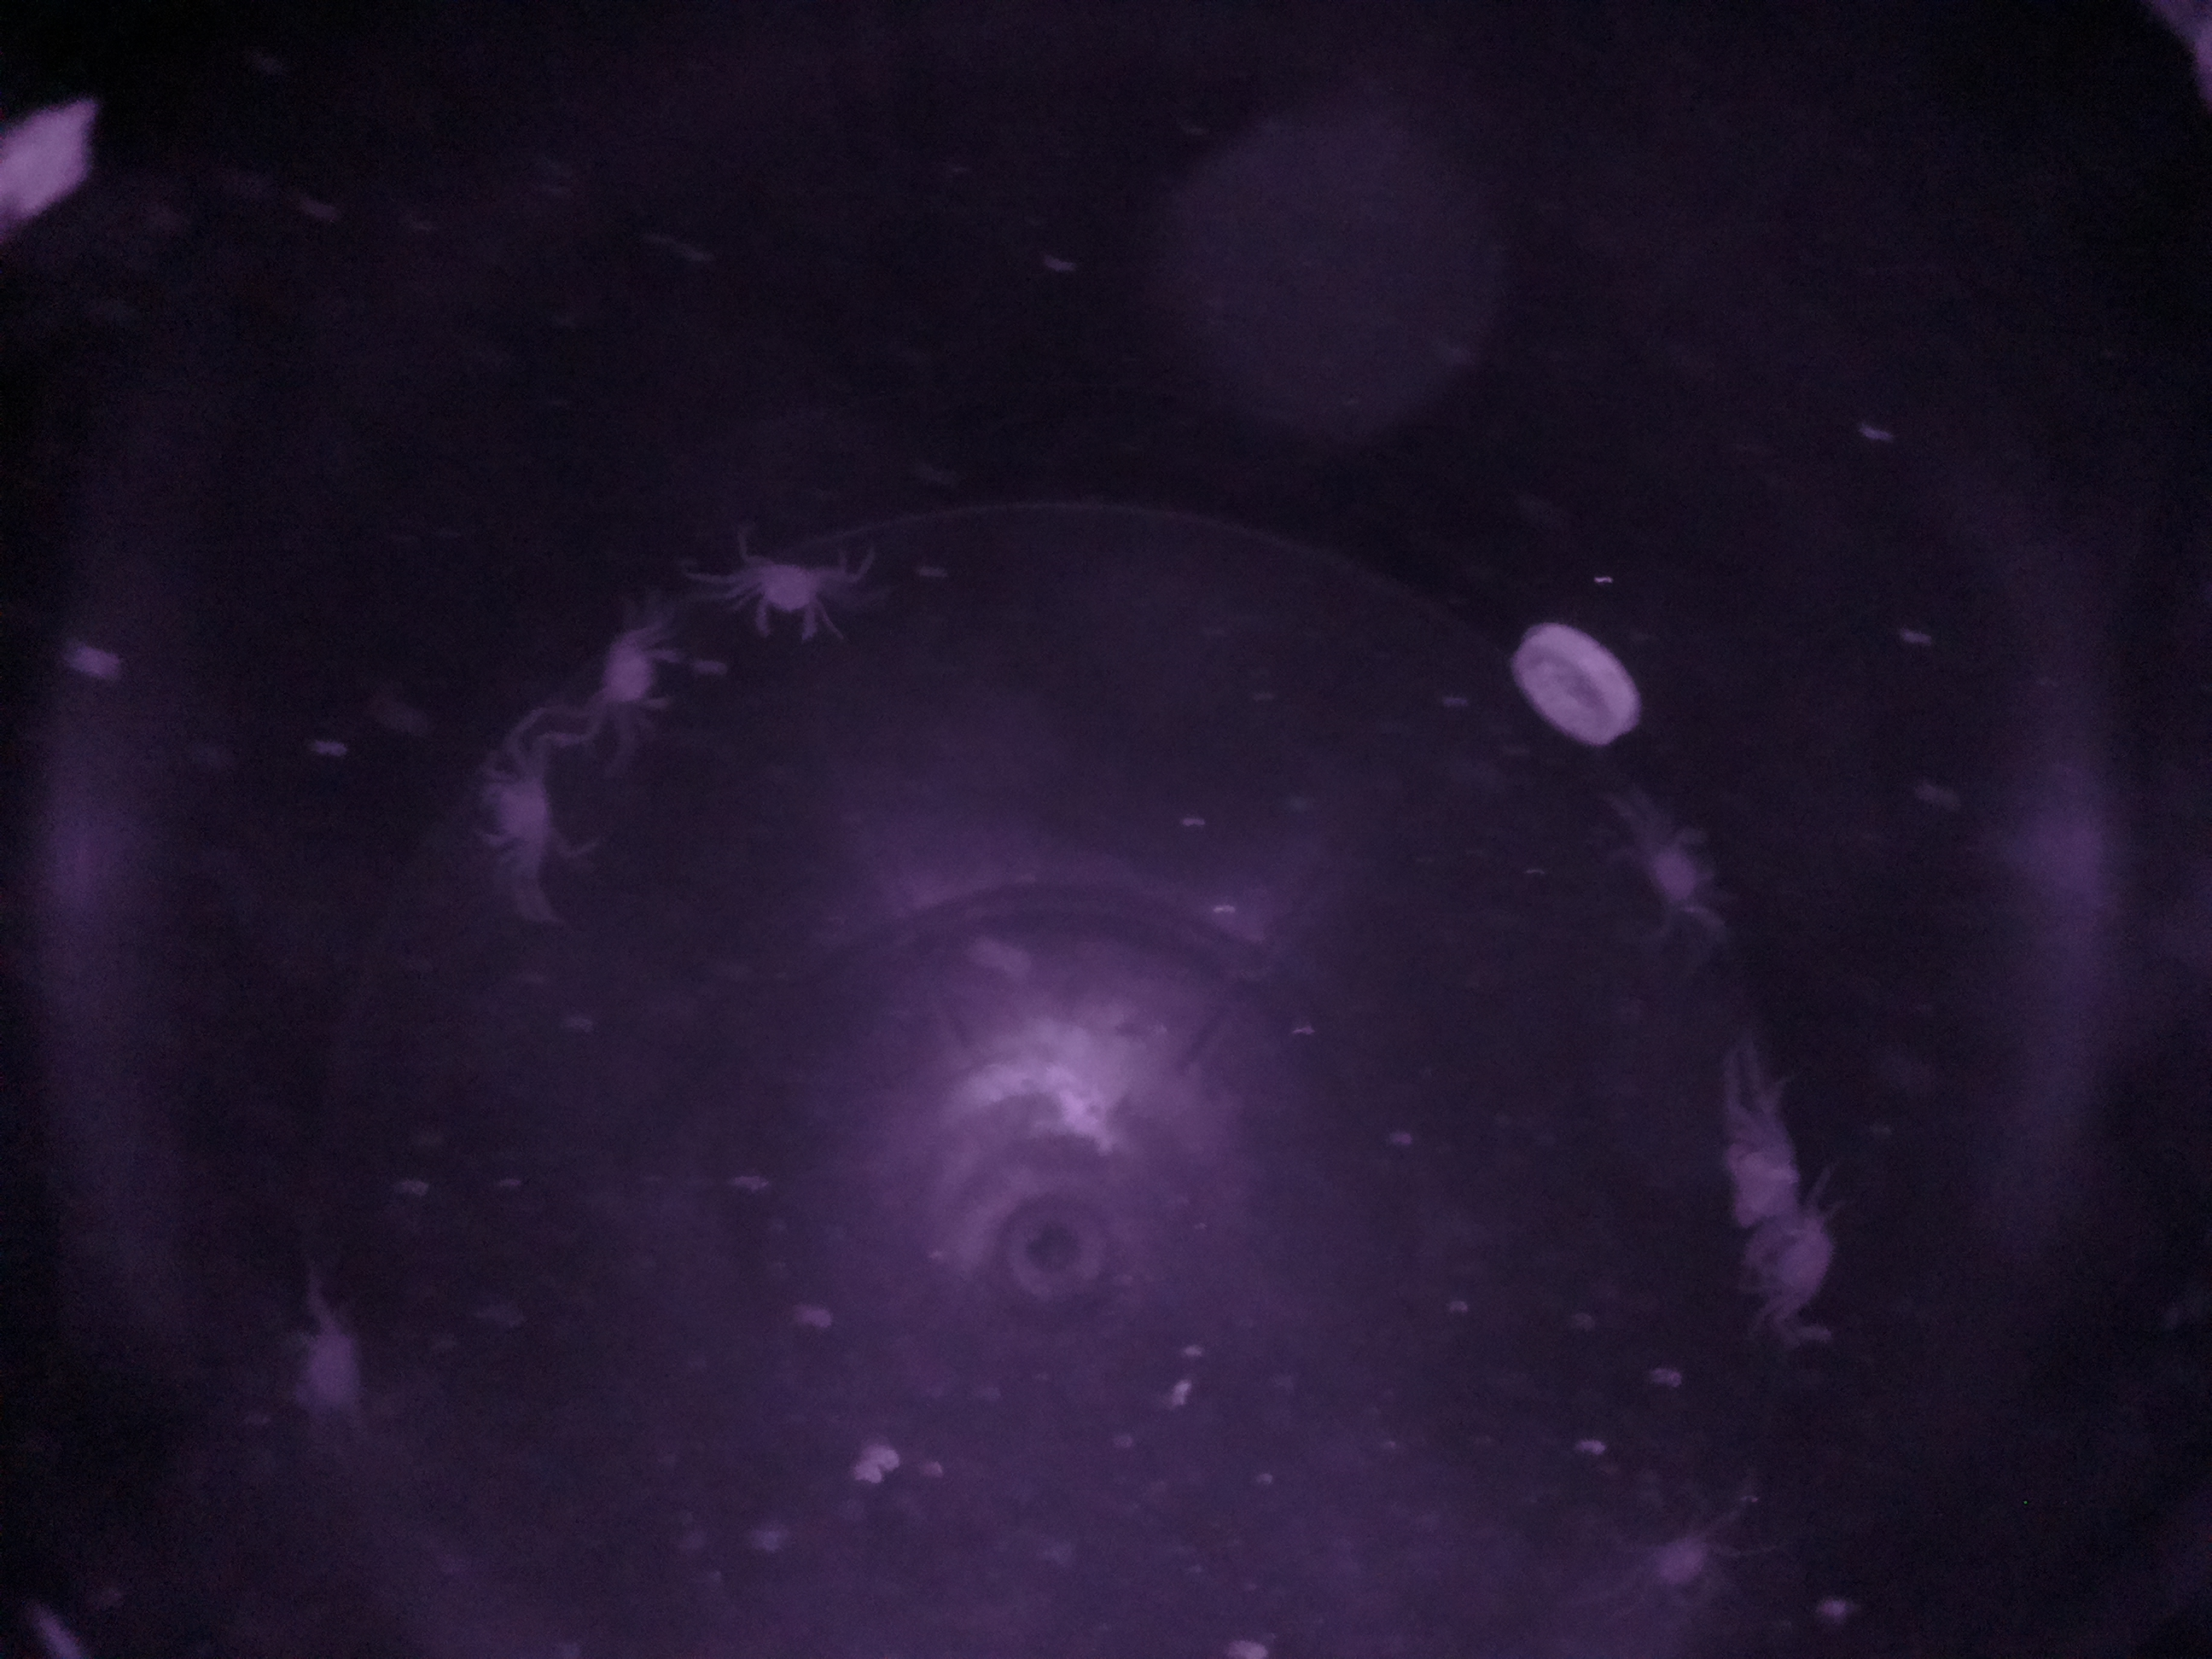Crab: (580, 617, 707, 739), (738, 530, 846, 662)
